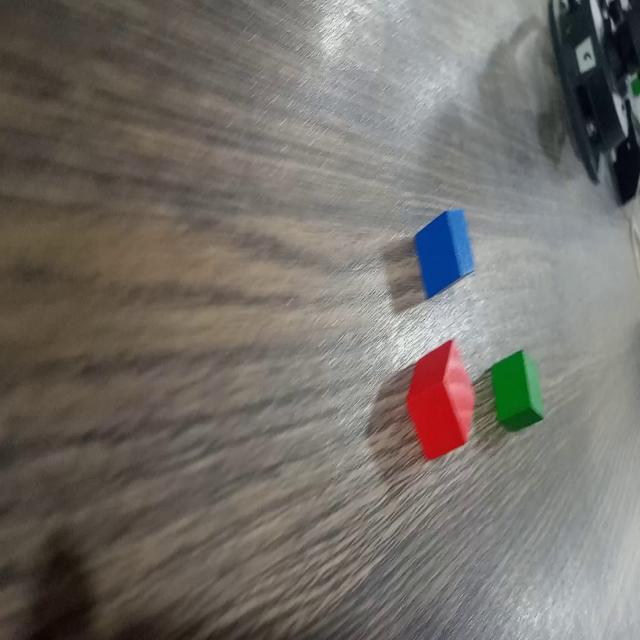cube: (404, 334, 477, 467), (413, 203, 477, 304), (490, 344, 550, 434)
